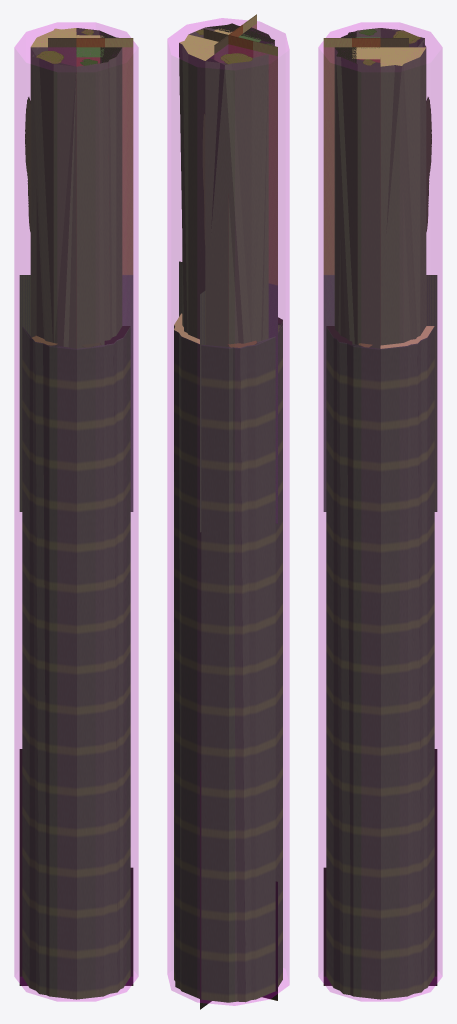
The model's file is saguaro_tall.dae.
3 renders of one model, left to right at view 1: azimuth 90°, elevation 25°; view 2: azimuth 150°, elevation 25°; view 3: azimuth 270°, elevation 25°, orthographic.
Parts seen in each view (by area): view 1: Colmesh_trunk-1, saguaro_tall_a800, saguaro_tall_a200, saguaro_tall_a50; view 2: Colmesh_trunk-1, saguaro_tall_a800, saguaro_tall_a200, saguaro_tall_a50; view 3: Colmesh_trunk-1, saguaro_tall_a800, saguaro_tall_a200, saguaro_tall_a50.
Part boxes in pixels (bbox=[...]): Colmesh_trunk-1: bbox=[14, 22, 138, 1001]; saguaro_tall_a800: bbox=[22, 28, 130, 999]; saguaro_tall_a200: bbox=[23, 28, 129, 994]; saguaro_tall_a50: bbox=[19, 38, 133, 985]; Colmesh_trunk-1: bbox=[167, 18, 289, 1005]; saguaro_tall_a800: bbox=[174, 24, 282, 1002]; saguaro_tall_a200: bbox=[174, 23, 282, 1002]; saguaro_tall_a50: bbox=[179, 14, 277, 1009]; Colmesh_trunk-1: bbox=[318, 22, 442, 1001]; saguaro_tall_a800: bbox=[326, 28, 434, 999]; saguaro_tall_a200: bbox=[328, 28, 432, 994]; saguaro_tall_a50: bbox=[323, 38, 437, 985].
Size of the model in its own units: 0.6344 by 0.667 by 5.61.
Materials: 2 (1 with a texture image).
